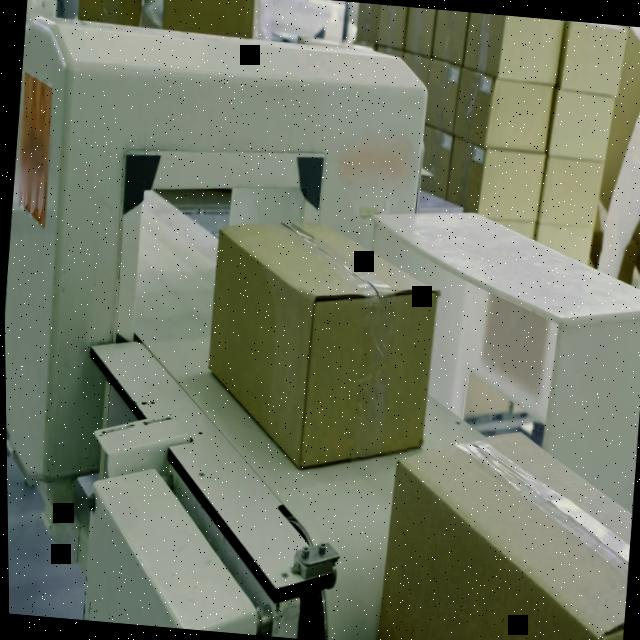box: (197, 208, 445, 474), (370, 415, 638, 640), (72, 0, 154, 28)
